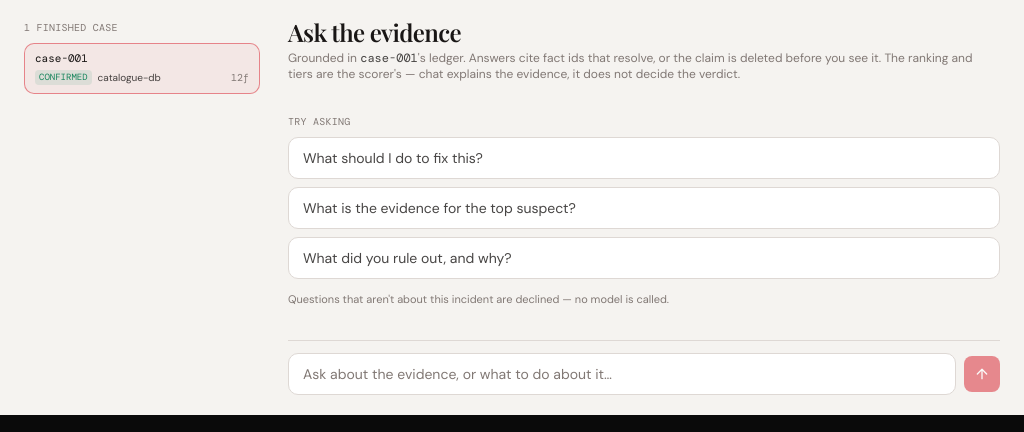
Test case: scope › renders a refusal as refused, with no citation claim attached
What coordinates should you click on to do the following:
click the button "What should I do to fix this?"
I would click on:
 (393, 158)
Its box is [288, 137, 1000, 179].
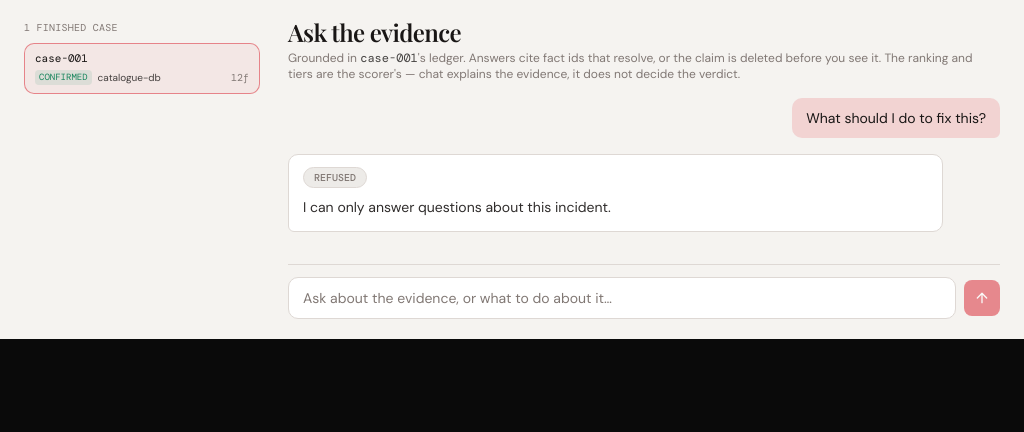
Result: the text titled "declined before any model was called" reads "refused" at [314, 171, 356, 184]
